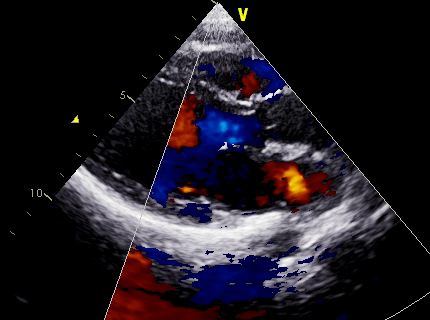MR: (169, 145, 227, 207)
